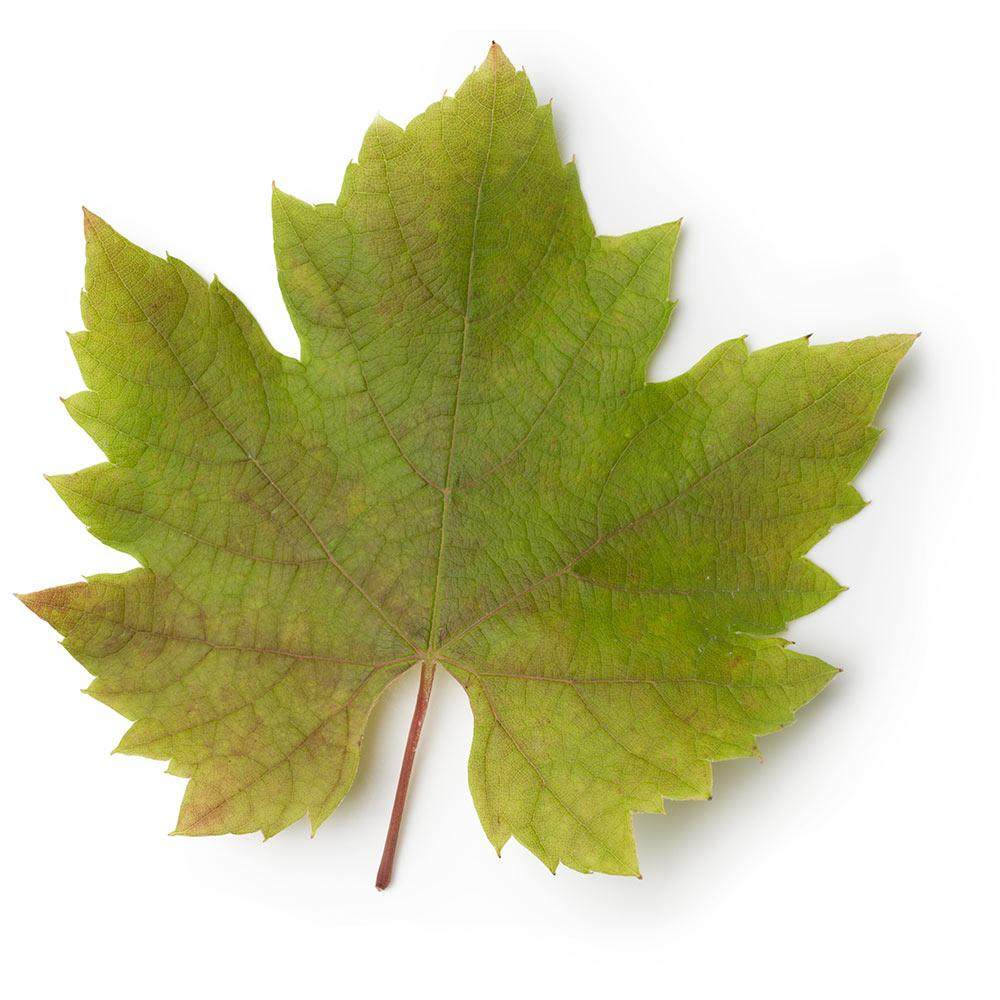grape leaf black rot: (3, 27, 941, 939)
